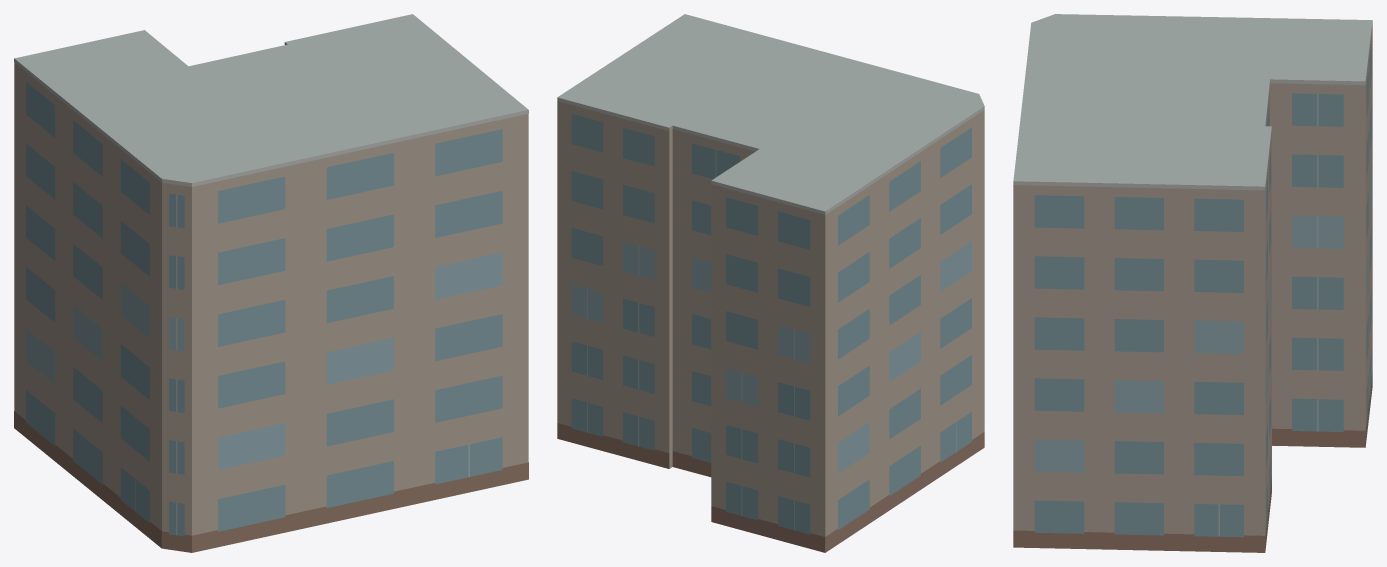
File: survey-upis-33028640.glb
The picture shows the model from 3 angles, left to right: view 1: azimuth 30°, elevation 25°; view 2: azimuth 150°, elevation 25°; view 3: azimuth 270°, elevation 25°; orthographic projection. The views are drawn at different scales.
Visible parts, largest first — view 1: survey-upis-33028640.tmp; view 2: survey-upis-33028640.tmp; view 3: survey-upis-33028640.tmp.
Boxes of the visible parts, x1,y1,x2,y2 form: survey-upis-33028640.tmp: (14, 14, 528, 552); survey-upis-33028640.tmp: (557, 14, 984, 552); survey-upis-33028640.tmp: (1013, 14, 1372, 552).
Bounding box in the file's own units: 23.61 × 23.35 × 20.76.
